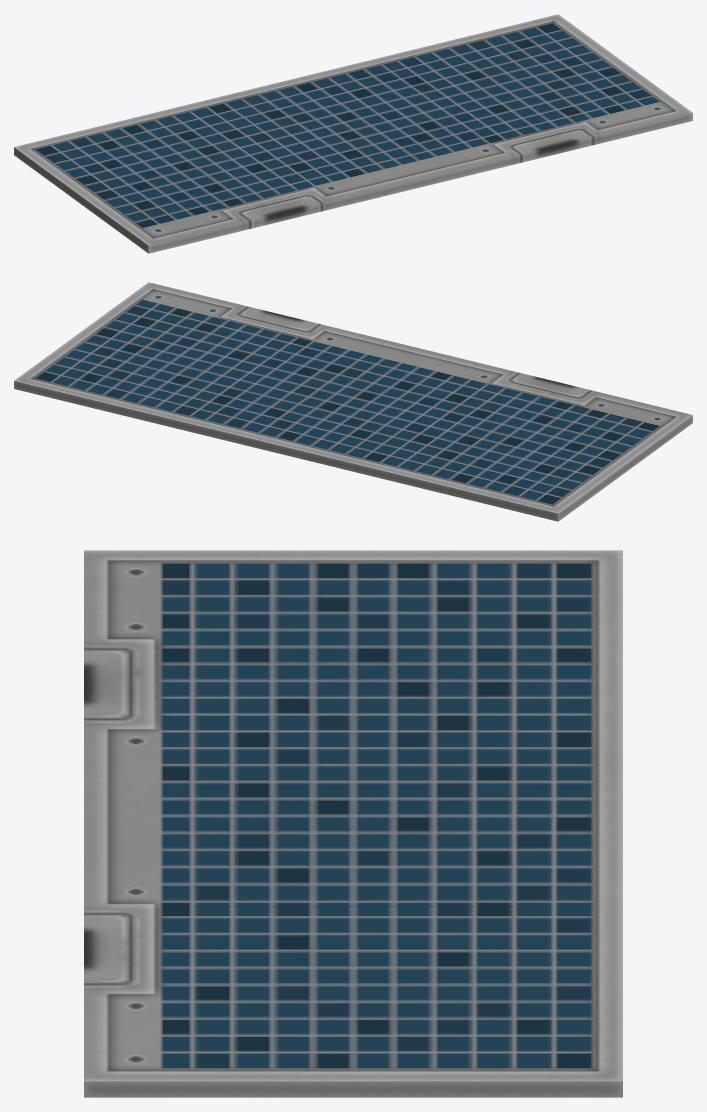
File: Ara_Solar_1_2.obj
The picture shows the model from 3 angles, top to bottom: view 1: azimuth 30°, elevation 25°; view 2: azimuth 150°, elevation 25°; view 3: azimuth 270°, elevation 25°; orthographic projection. The views are drawn at different scales.
Visible parts, largest first — view 1: Ara_Solar_1_2; view 2: Ara_Solar_1_2; view 3: Ara_Solar_1_2.
Part boxes in pixels (bbox=[...]): Ara_Solar_1_2: bbox=[14, 14, 692, 253]; Ara_Solar_1_2: bbox=[14, 282, 692, 521]; Ara_Solar_1_2: bbox=[84, 550, 622, 1097].
Size of the model in its own units: 1.75 by 0.025 by 0.75.
